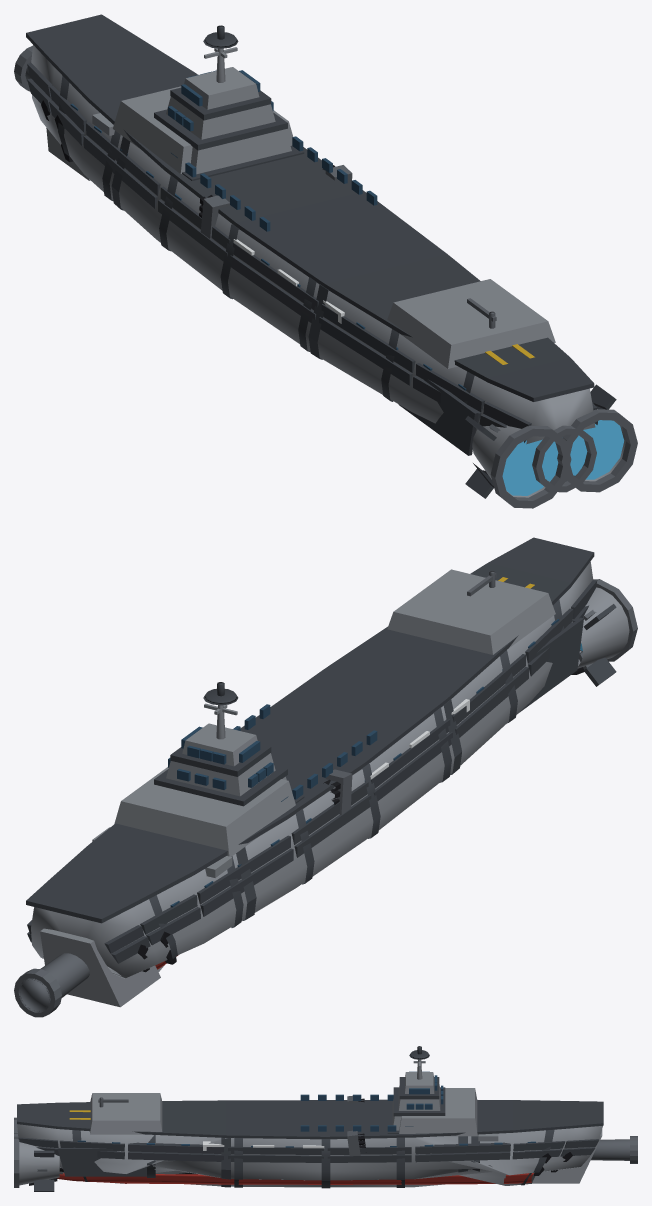
Rendered from kirishima.obj.
The picture shows the model from 3 angles, top to bottom: view 1: azimuth 30°, elevation 25°; view 2: azimuth 150°, elevation 25°; view 3: azimuth 270°, elevation 25°; orthographic projection. The views are drawn at different scales.
Parts seen in each view (by area): view 1: hull, superstructure, engine_nozzle, bridge, radiator, missile_launcher; view 2: hull, superstructure, bridge, engine_nozzle, wave_motion_gun, radiator, missile_launcher; view 3: hull, superstructure, bridge, engine_nozzle, radiator, wave_motion_gun, missile_launcher.
Boxes of the visible parts, bbox=[...] form: hull: bbox=[26, 14, 597, 444]; superstructure: bbox=[70, 86, 555, 390]; engine_nozzle: bbox=[465, 384, 637, 508]; bridge: bbox=[154, 25, 304, 180]; radiator: bbox=[398, 379, 478, 455]; missile_launcher: bbox=[199, 165, 352, 238]; hull: bbox=[26, 537, 596, 1007]; superstructure: bbox=[92, 569, 559, 907]; bridge: bbox=[154, 682, 304, 806]; engine_nozzle: bbox=[571, 579, 637, 686]; wave_motion_gun: bbox=[14, 953, 89, 1017]; radiator: bbox=[516, 617, 583, 714]; missile_launcher: bbox=[323, 769, 352, 814]; hull: bbox=[17, 1099, 603, 1188]; superstructure: bbox=[77, 1088, 535, 1150]; bridge: bbox=[387, 1046, 445, 1133]; engine_nozzle: bbox=[14, 1117, 59, 1191]; radiator: bbox=[57, 1148, 146, 1176]; wave_motion_gun: bbox=[591, 1136, 637, 1163]; missile_launcher: bbox=[347, 1095, 366, 1155].
Bounding box in the file's own units: 34 × 49.59 × 205.
